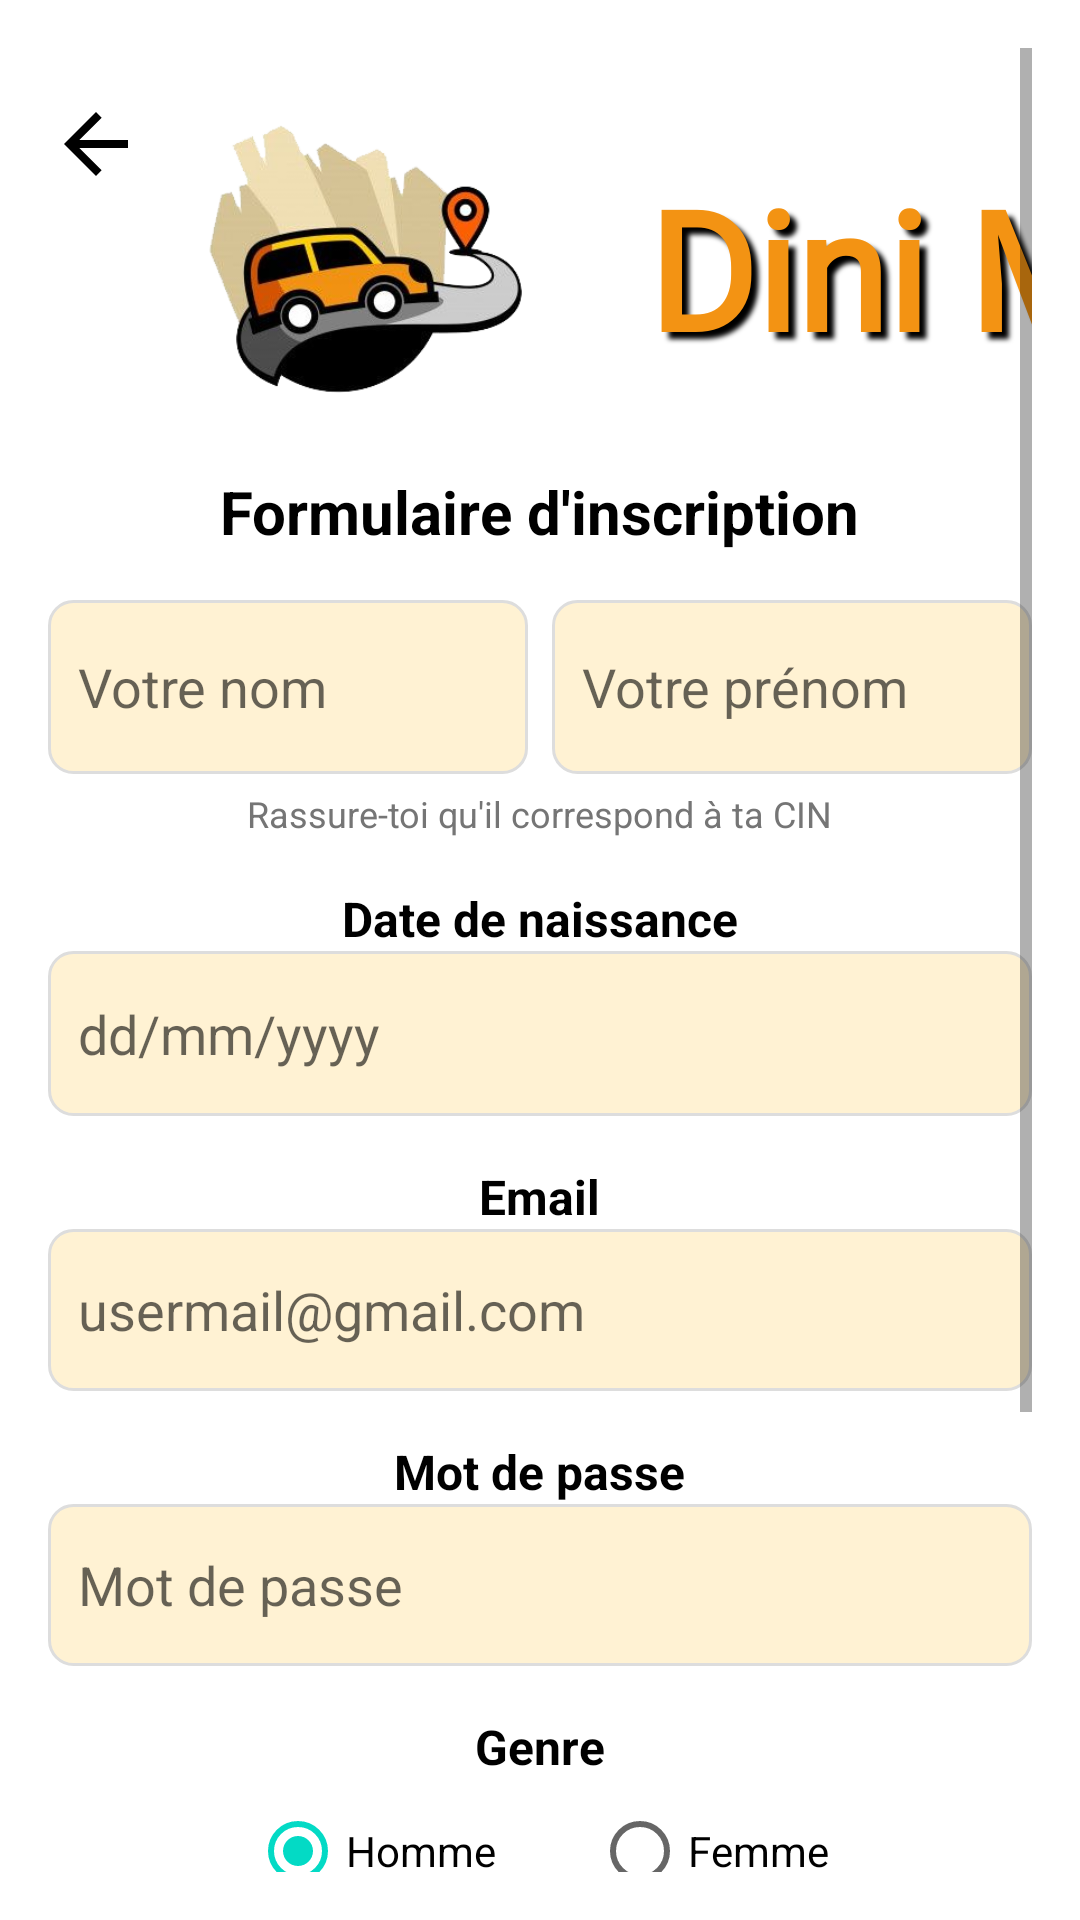

Icons on this 1080px×1920px Android screen, each with its box as box=[x1, y1, x2, y2]:
Retour: box=[64, 112, 128, 176]
